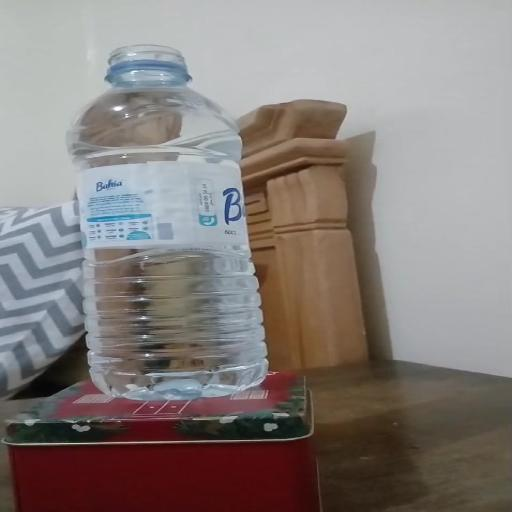bouteille non conformite: (70, 28, 281, 395), (91, 42, 208, 88)
